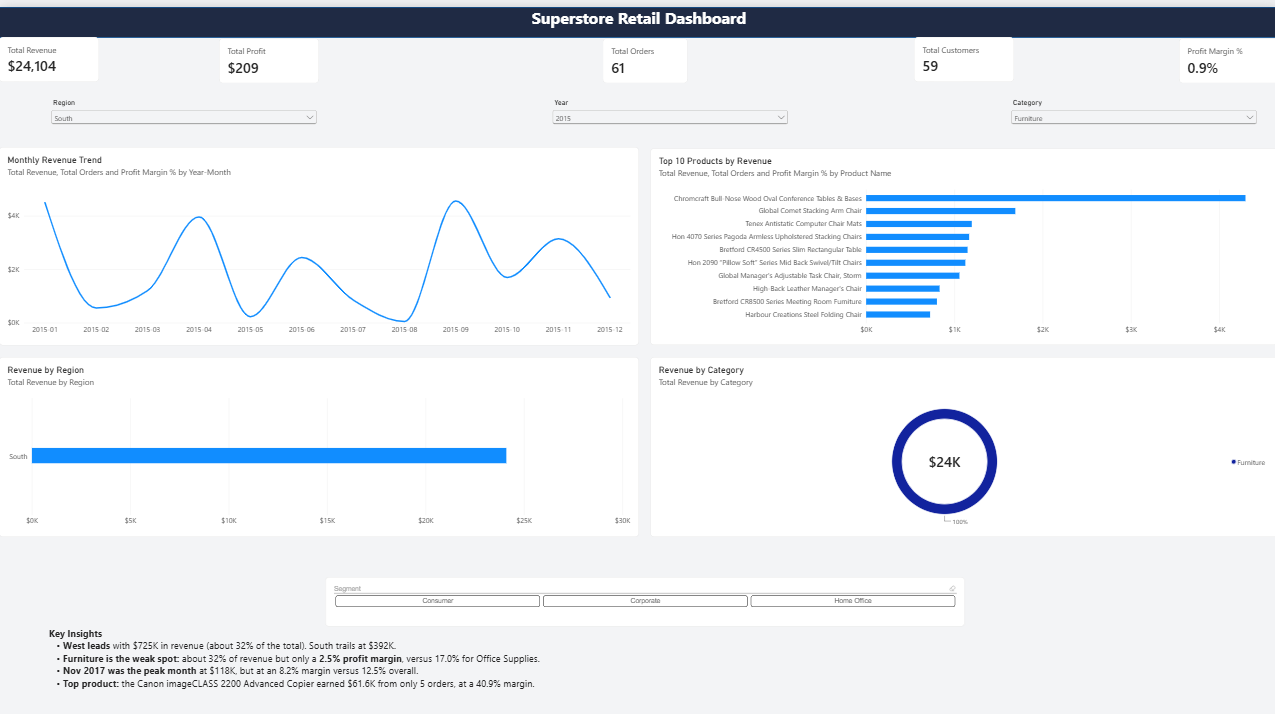

This screenshot's page, from the dashboard's own definition file:
{"tool":"powerbi","page":{"name":"Overview","canvas":[2560,1440],"ordinal":0},"visuals":[{"type":"shape","box":[0,0,2560,61.5],"z":0},{"type":"textbox","box":[0,0,2560,69.7],"z":1000},{"type":"cardVisual","fields":{"Data":["Measures (2).Total Profit"]},"box":[439.1,62.7,200,90],"z":2000},{"type":"cardVisual","fields":{"Data":["Measures (2).Total Revenue"]},"box":[0,60.3,200,90],"z":3000},{"type":"cardVisual","fields":{"Data":["Measures (2).Total Customers"]},"box":[1829,60.3,200,90],"z":4000},{"type":"cardVisual","fields":{"Data":["Measures (2).Total Orders"]},"box":[1206.4,62.7,170,90],"z":5000},{"type":"cardVisual","fields":{"Data":["Measures (2).Profit Margin %"]},"box":[2359,61.5,200,90],"z":6000},{"type":"lineChart","title":"Monthly Revenue Trend","fields":{"Category":["DateTable.Year-Month"],"Y":["Measures (2).Total Revenue"]},"box":[0,280,1280,396.7],"z":7000},{"type":"clusteredBarChart","title":"Top 10 Products by Revenue","fields":{"Category":["Sales.Product Name"],"Y":["Measures (2).Total Revenue"]},"box":[1303.3,283.3,1255.4,393.8],"z":8000},{"type":"clusteredBarChart","title":"Revenue by Region","fields":{"Category":["Sales.Region"],"Y":["Measures (2).Total Revenue"]},"box":[0,700,1280,360],"z":9000},{"type":"donutChart","title":"Revenue by Category","fields":{"Category":["Sales.Category"],"Y":["Measures (2).Total Revenue"]},"box":[1303.3,700,1256.7,360],"z":10000},{"type":"slicer","fields":{"Values":["Sales.Region"]},"box":[100,183.3,540,83.3],"z":11000},{"type":"slicer","fields":{"Values":["Sales.Category"]},"box":[2020,183.3,500,53.3],"z":12000},{"type":"slicer","fields":{"Values":["DateTable.Year"]},"box":[1103.3,183.3,480,106.7],"z":13000},{"type":"ChicletSlicer1448559807354","fields":{"Category":["Sales.Segment"]},"box":[652.6,1140,1279,99.6],"z":14000},{"type":"textbox","box":[100,1240,1275,200],"z":14002}]}

Visuals, with their boxes in screenshot pixels (x1, y1, x2, y2), scaled from the page's 2560x1440 canvas onto the 1275x714 screenshot:
shape: <box>0,0,1274,30</box>
textbox: <box>0,0,1274,35</box>
cardVisual - Measures (2).Total Profit: <box>219,31,318,76</box>
cardVisual - Measures (2).Total Revenue: <box>0,30,100,75</box>
cardVisual - Measures (2).Total Customers: <box>911,30,1011,75</box>
cardVisual - Measures (2).Total Orders: <box>601,31,686,76</box>
cardVisual - Measures (2).Profit Margin %: <box>1175,30,1274,75</box>
"Monthly Revenue Trend" lineChart: <box>0,139,638,336</box>
"Top 10 Products by Revenue" clusteredBarChart: <box>649,140,1274,336</box>
"Revenue by Region" clusteredBarChart: <box>0,347,638,526</box>
"Revenue by Category" donutChart: <box>649,347,1274,526</box>
slicer - Sales.Region: <box>50,91,319,132</box>
slicer - Sales.Category: <box>1006,91,1255,117</box>
slicer - DateTable.Year: <box>549,91,789,144</box>
ChicletSlicer1448559807354 - Sales.Segment: <box>325,565,962,615</box>
textbox: <box>50,615,685,713</box>
